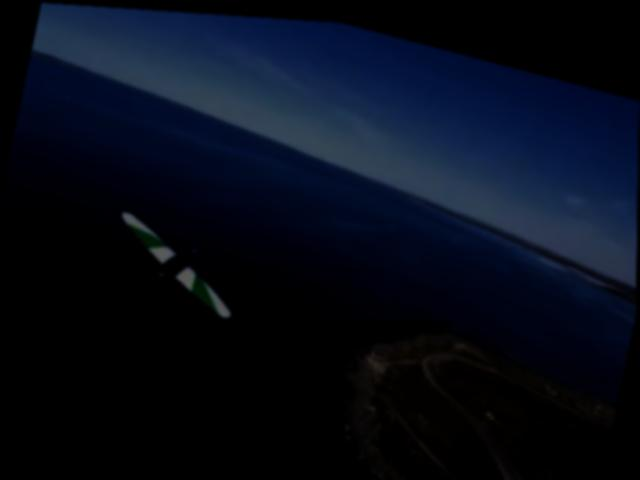uav: (104, 204, 250, 322)
